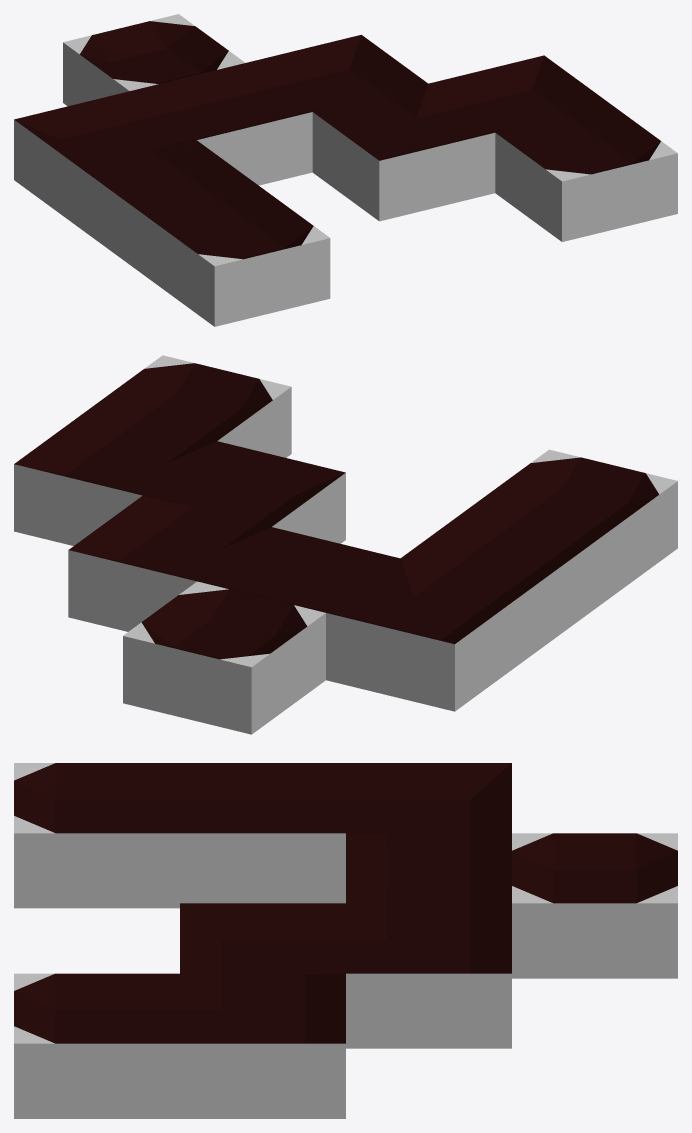
Rendered from 41f_path.obj.
3 views of the same model, one above another, from view 1: azimuth 30°, elevation 25°; view 2: azimuth 150°, elevation 25°; view 3: azimuth 270°, elevation 25° (orthographic). The views are drawn at different scales.
Visible parts, largest first — view 1: foil.ending.1.0_ending.463, foil.ending.4.0_ending.464, foil.corner.3.1_corner.1146, foil.through.2.2_through.244, foil.corner.1.2_corner.1145, foil.through.1.1_through.243, foil.hole.2.3_Cube.233, foil.corner.4.1_corner.1148, foil.corner.3.2_corner.1147; view 2: foil.hole.2.3_Cube.233, foil.corner.1.2_corner.1145, foil.ending.1.0_ending.463, foil.corner.3.2_corner.1147, foil.corner.4.1_corner.1148, foil.through.1.1_through.243, foil.ending.4.0_ending.464, foil.corner.3.1_corner.1146, foil.through.2.2_through.244; view 3: foil.ending.1.0_ending.463, foil.hole.2.3_Cube.233, foil.ending.4.0_ending.464, foil.through.1.1_through.243, foil.corner.3.2_corner.1147, foil.corner.4.1_corner.1148, foil.corner.3.1_corner.1146, foil.corner.1.2_corner.1145, foil.through.2.2_through.244.
Boxes of the visible parts, x1,y1,x2,y2 form: foil.ending.1.0_ending.463: (147, 189, 330, 326); foil.ending.4.0_ending.464: (495, 104, 677, 241); foil.corner.3.1_corner.1146: (312, 84, 495, 221); foil.through.2.2_through.244: (130, 63, 312, 185); foil.corner.1.2_corner.1145: (14, 91, 195, 228); foil.through.1.1_through.243: (81, 140, 263, 277); foil.hole.2.3_Cube.233: (63, 14, 244, 106); foil.corner.4.1_corner.1148: (429, 55, 610, 140); foil.corner.3.2_corner.1147: (246, 34, 428, 119); foil.hole.2.3_Cube.233: (123, 581, 325, 734); foil.corner.1.2_corner.1145: (326, 558, 529, 711); foil.ending.1.0_ending.463: (475, 449, 677, 602); foil.corner.3.2_corner.1147: (68, 495, 271, 631); foil.corner.4.1_corner.1148: (14, 410, 216, 545); foil.through.1.1_through.243: (400, 504, 603, 656); foil.ending.4.0_ending.464: (88, 355, 291, 457); foil.corner.3.1_corner.1146: (143, 441, 345, 543); foil.through.2.2_through.244: (200, 527, 400, 615); foil.ending.1.0_ending.463: (14, 763, 179, 908); foil.hole.2.3_Cube.233: (512, 833, 677, 978); foil.ending.4.0_ending.464: (14, 973, 179, 1118); foil.through.1.1_through.243: (180, 763, 345, 903); foil.corner.3.2_corner.1147: (346, 903, 511, 1048); foil.corner.4.1_corner.1148: (180, 973, 345, 1118); foil.corner.3.1_corner.1146: (180, 903, 345, 992); foil.corner.1.2_corner.1145: (346, 763, 511, 851); foil.through.2.2_through.244: (346, 833, 511, 922).
Size of the model in its own units: 8 by 1 by 8.
